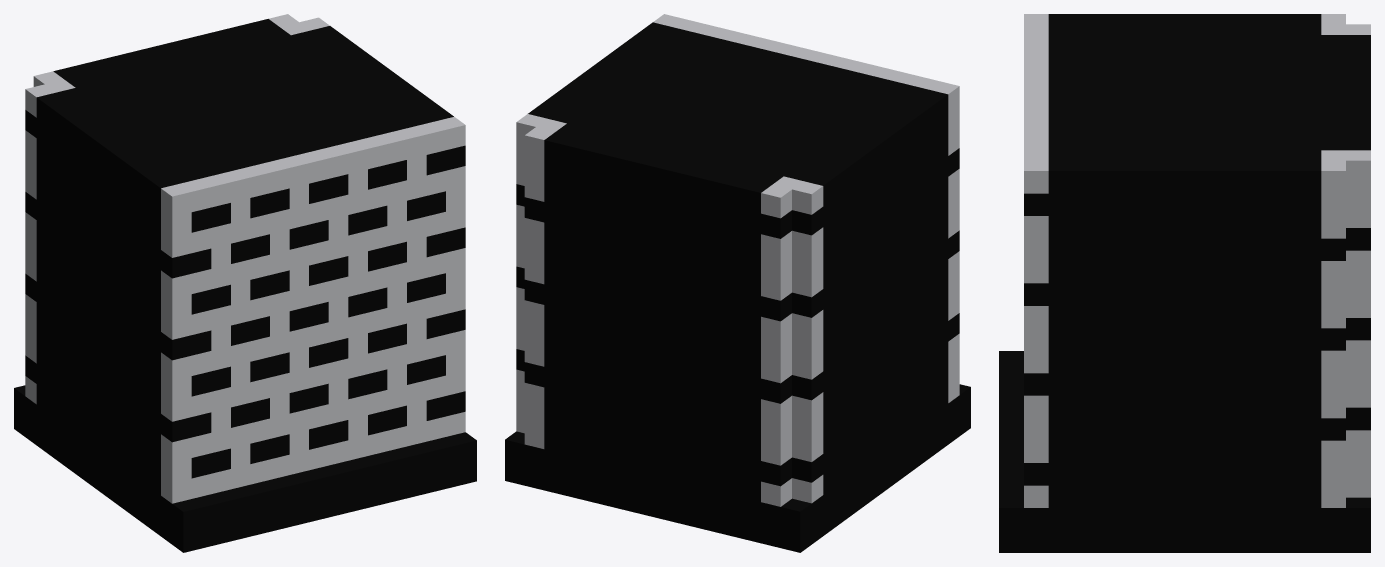
The model's file is dungeon_d_b_inner_wall_segment_b.obj.
3 renders of one model, left to right at view 1: azimuth 30°, elevation 25°; view 2: azimuth 150°, elevation 25°; view 3: azimuth 270°, elevation 25°, orthographic. The views are drawn at different scales.
Size of the model in its own units: 1.5 by 1.7 by 1.5.
Materials: 1 (1 with a texture image).
